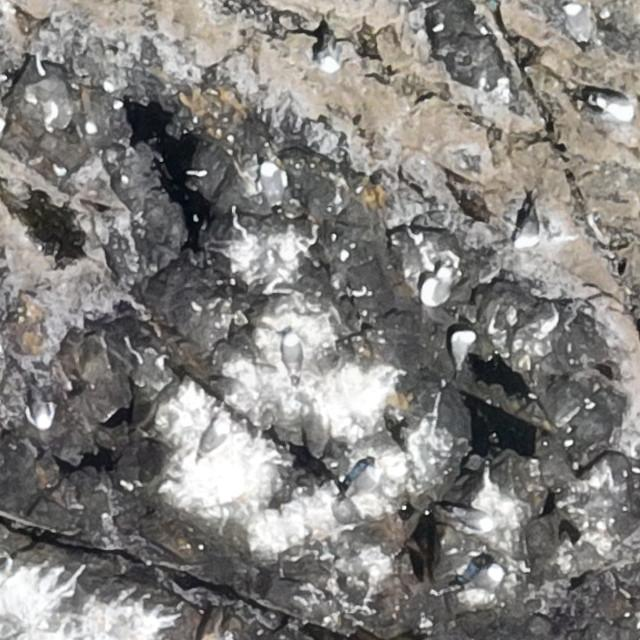umineko: (586, 87, 637, 122), (25, 376, 56, 430), (198, 416, 227, 470), (260, 160, 287, 211), (345, 464, 382, 501), (420, 269, 454, 307), (516, 199, 542, 248), (464, 563, 504, 593), (447, 330, 476, 369), (319, 29, 340, 73), (452, 509, 494, 529), (566, 5, 586, 40), (284, 332, 301, 372)
